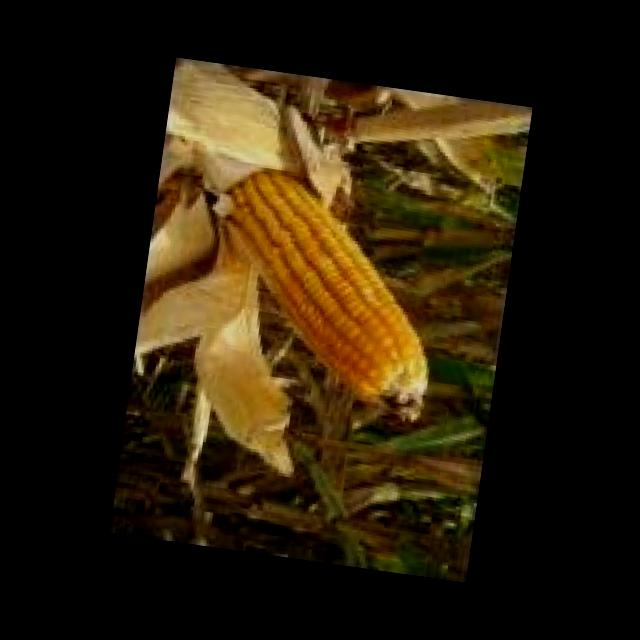corn: (147, 167, 426, 420)
